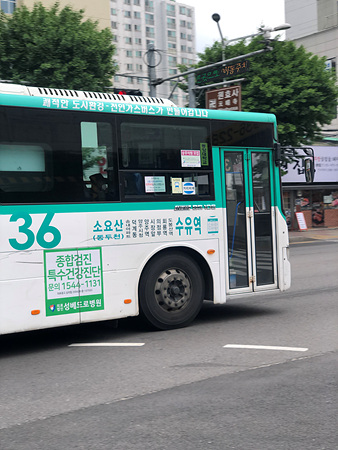entrance: (217, 142, 280, 297)
